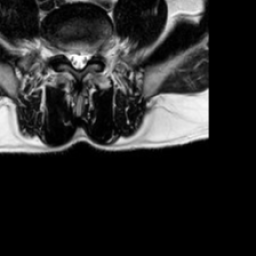CCS_normal: (75, 41, 81, 78)
LFS_stenosis: (89, 39, 97, 64)
LLS_normal: (81, 40, 89, 71)
RFS_stenosis: (59, 39, 67, 63)
RLS_normal: (67, 41, 75, 74)
